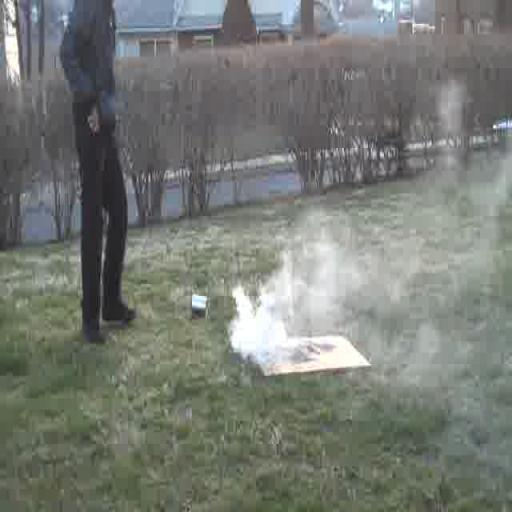smoke: (231, 230, 293, 370)
